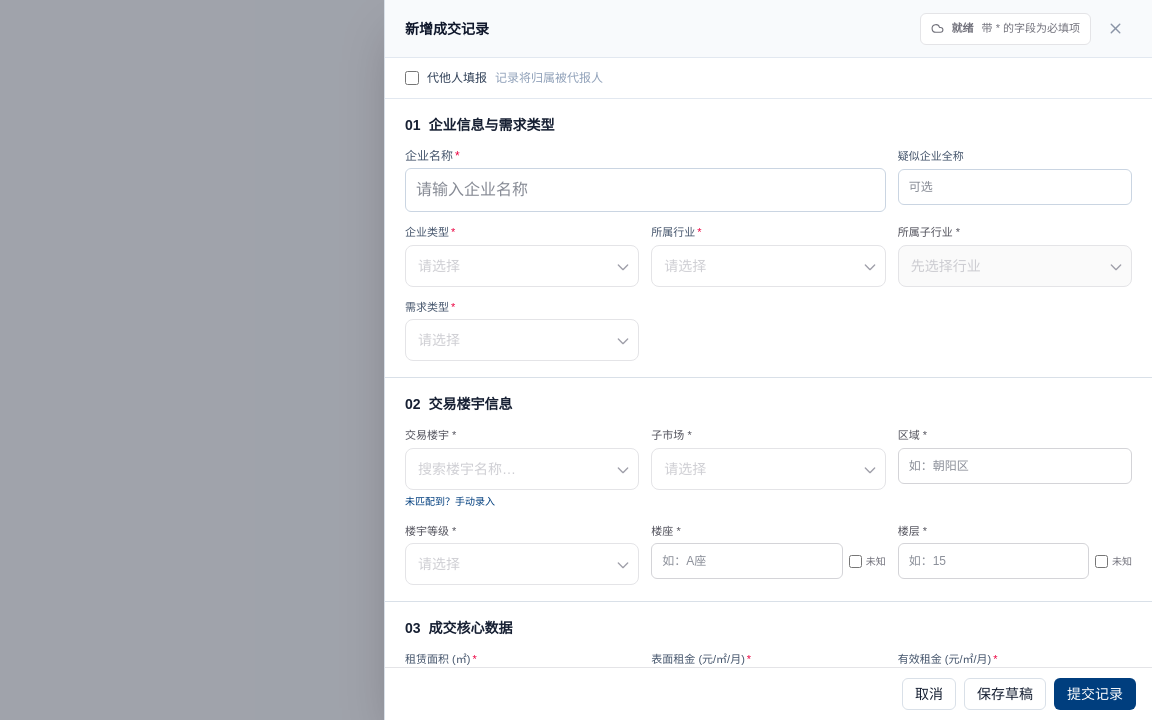
Scenario: lease close protection › warns on page unload only when input is unpreserved
Expected: the button "保存草稿" is enabled, [964, 678, 1046, 710]
Type "Unpreserved" into the dropdown labelled "企业名称*" at (645, 190), box [405, 168, 886, 212]
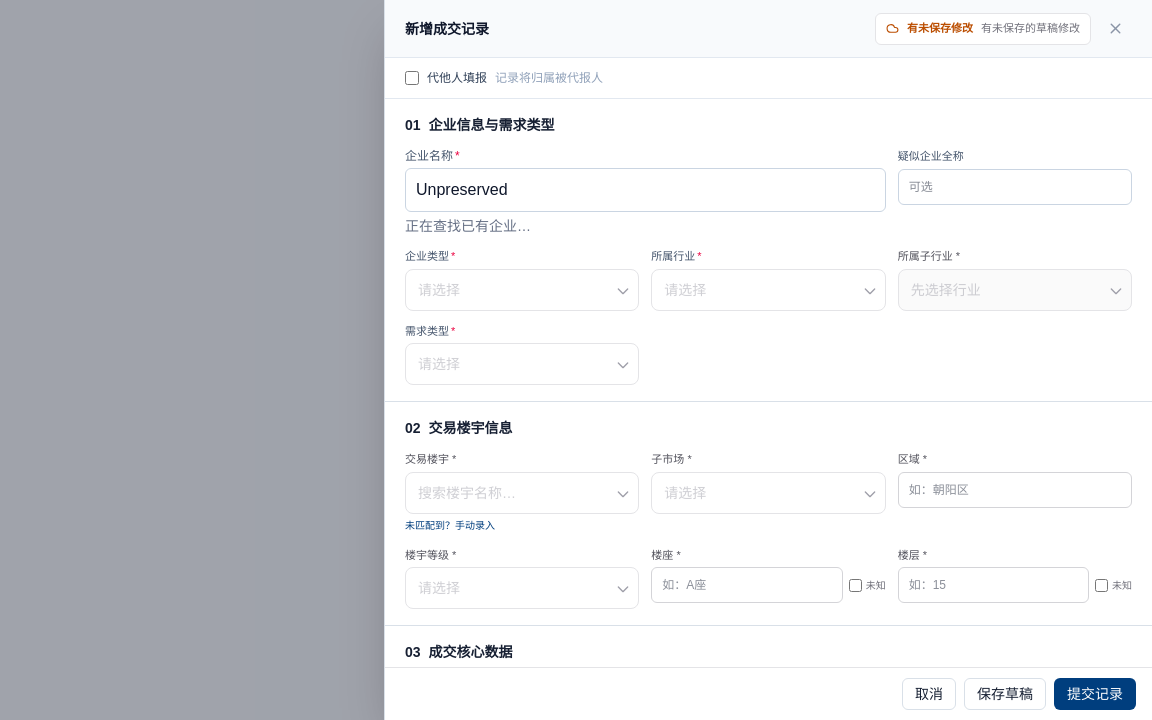
Click the button "保存草稿" at (1005, 694), box [964, 678, 1046, 710]
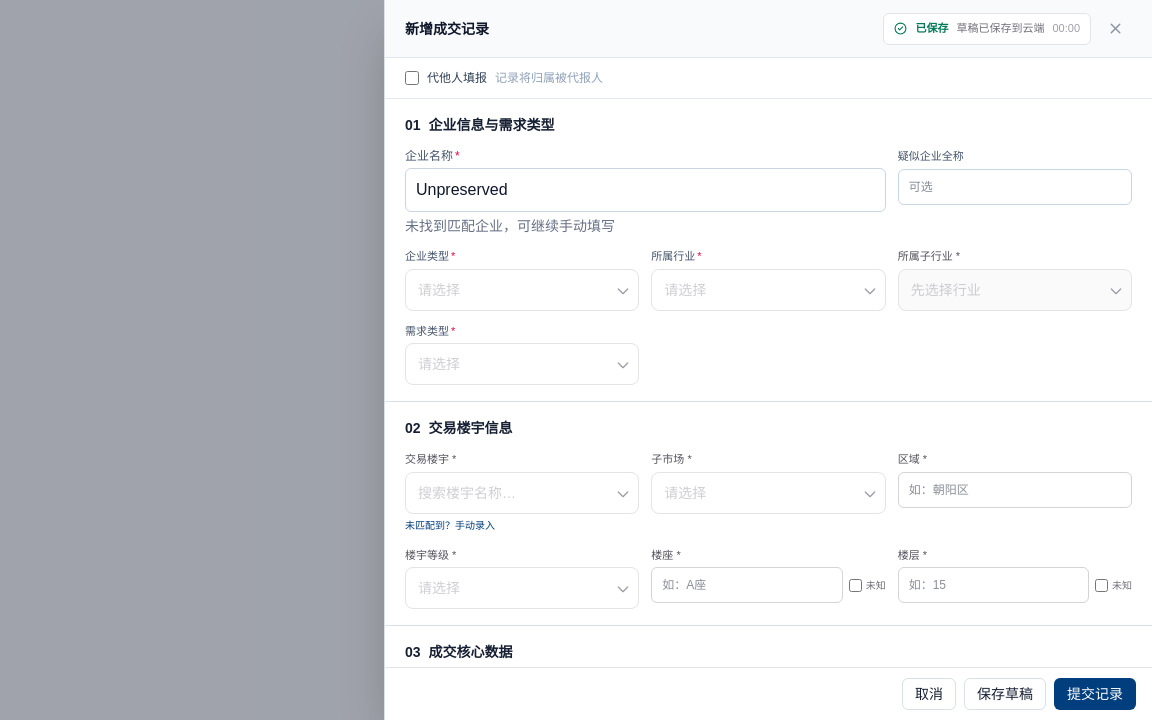
Expected: the text "草稿已保存到云端" is shown, [956, 20, 1044, 37]
